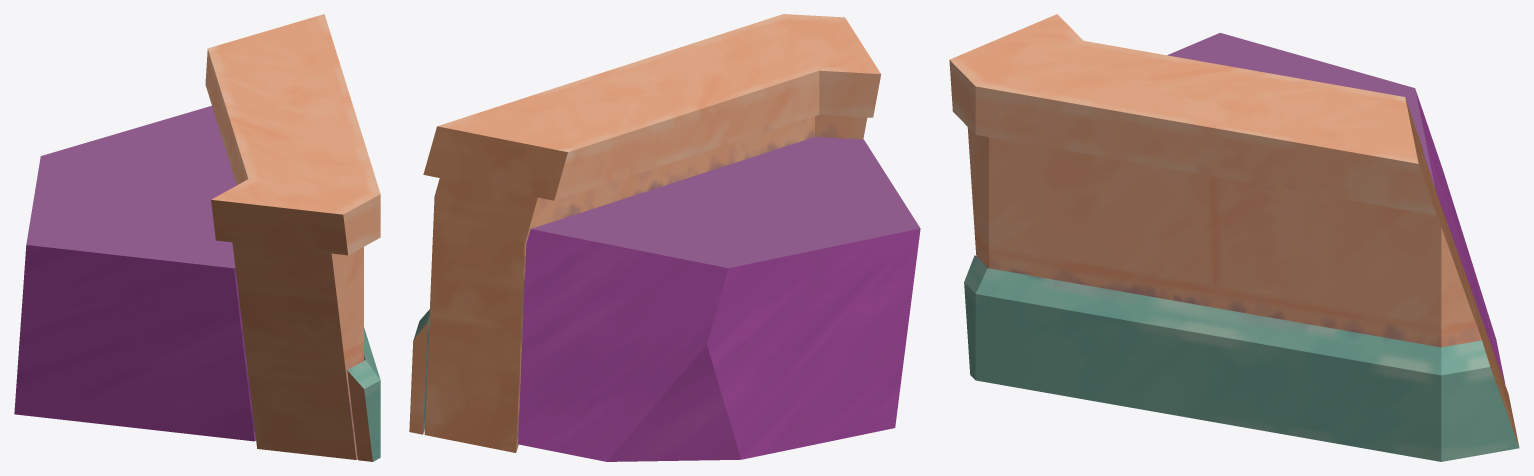
File: vat_plum_s01.fbx
3 renders of one model, left to right at view 1: azimuth 30°, elevation 25°; view 2: azimuth 150°, elevation 25°; view 3: azimuth 270°, elevation 25°, orthographic. The views are drawn at different scales.
Visible parts, largest first — view 1: vat_plum_s01; view 2: vat_plum_s01; view 3: vat_plum_s01.
Part boxes in pixels (x1=…): vat_plum_s01: x1=14, y1=14, x2=380, y2=461; vat_plum_s01: x1=409, y1=14, x2=920, y2=461; vat_plum_s01: x1=949, y1=14, x2=1519, y2=461.
Bounding box in the file's own units: 2.66 × 1.7 × 2.99.
